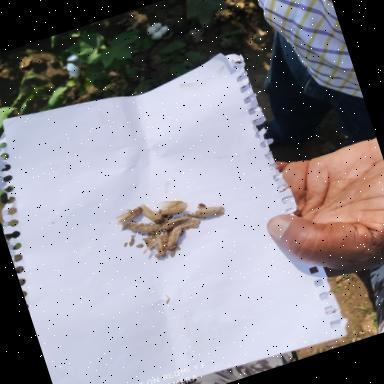abw: (124, 212, 159, 240), (110, 201, 146, 228), (154, 195, 192, 220), (159, 222, 191, 251), (136, 195, 164, 227), (192, 200, 228, 224), (158, 212, 194, 234)
